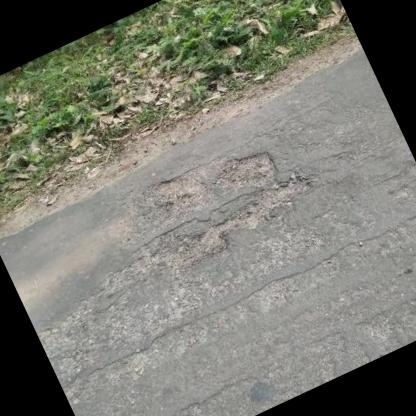pothole: (122, 120, 327, 284)
